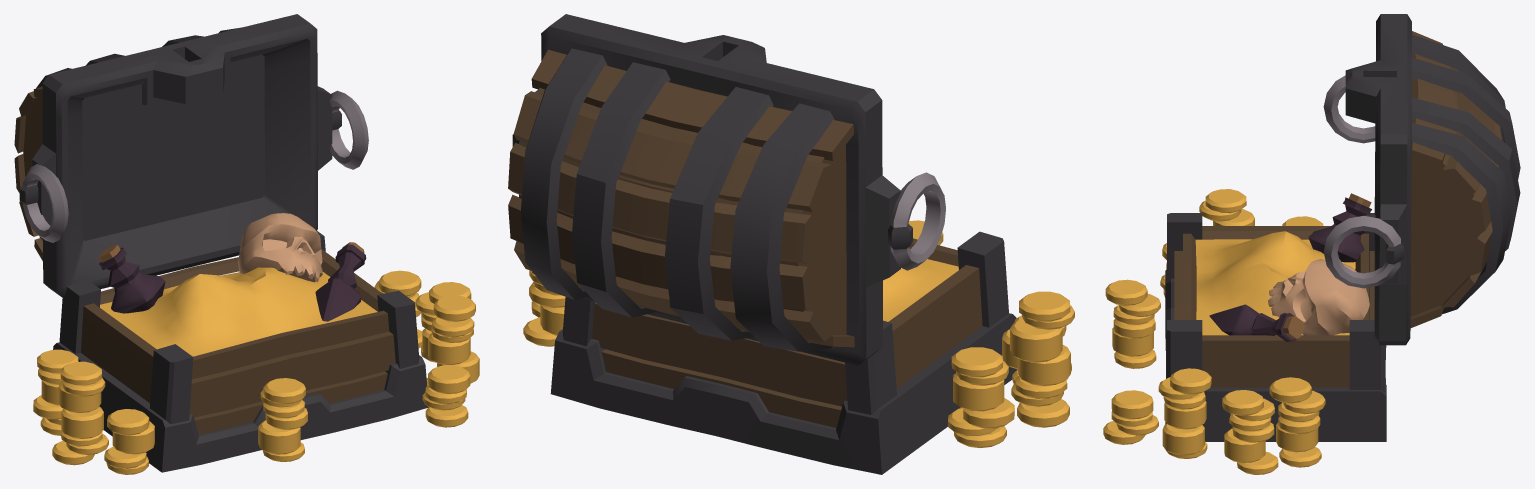
The model's file is chest.glb.
The picture shows the model from 3 angles, left to right: view 1: azimuth 30°, elevation 25°; view 2: azimuth 150°, elevation 25°; view 3: azimuth 270°, elevation 25°; orthographic projection. The views are drawn at different scales.
Parts seen in each view (by area): view 1: Prop_Chest_Gold; view 2: Prop_Chest_Gold; view 3: Prop_Chest_Gold.
Boxes of the visible parts, box(x1,y1,x2,y2) form: Prop_Chest_Gold: box(14, 14, 479, 474); Prop_Chest_Gold: box(508, 14, 1074, 474); Prop_Chest_Gold: box(1103, 14, 1520, 474).
Bounding box in the file's own units: 1.82 × 1.29 × 1.59.
Materials: 1 (1 with a texture image).
